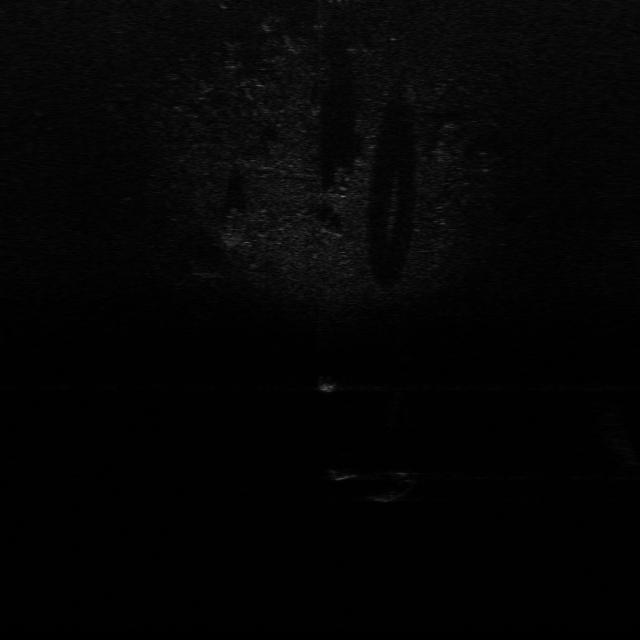cube: (322, 466, 358, 483)
square cage: (313, 373, 341, 396)
tyre: (364, 468, 420, 504)
